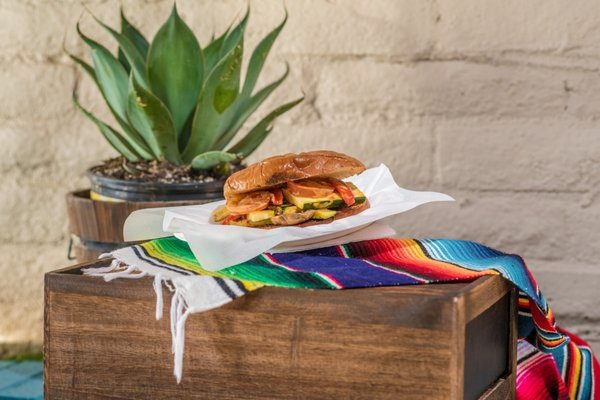soup: (210, 149, 370, 227)
